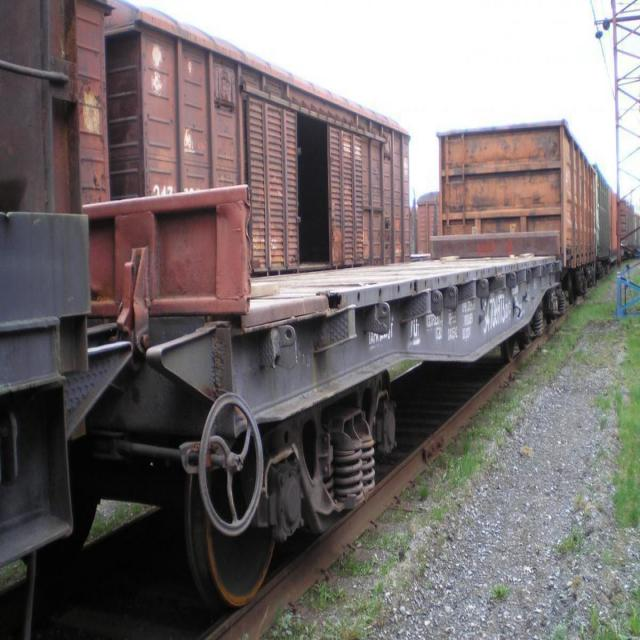boxcar: (107, 0, 416, 269)
flatcar: (76, 248, 563, 619)
gondola: (435, 116, 596, 295)
